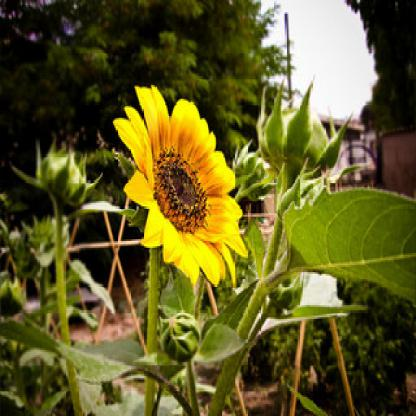SUN FLOWER: (103, 49, 263, 294)
